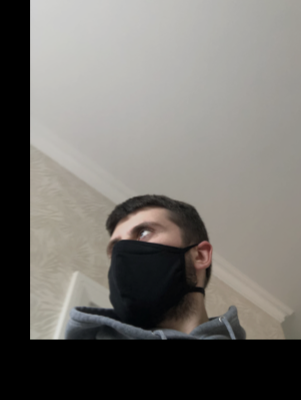with_mask: (106, 219, 189, 326)
